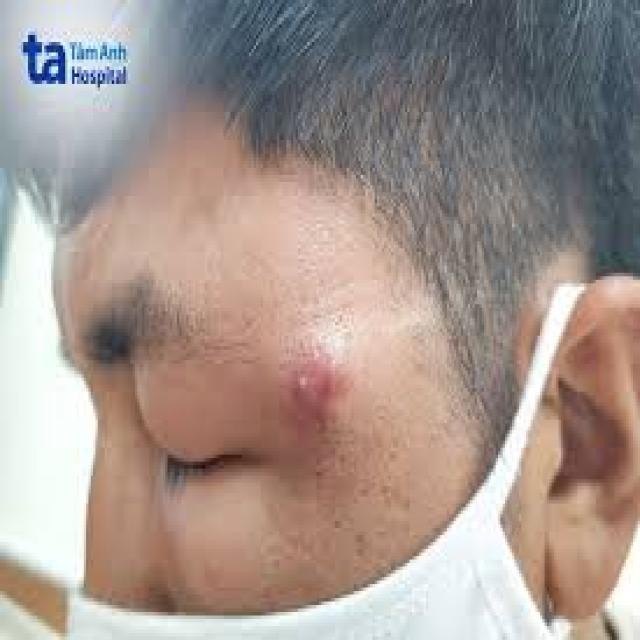nodule: (275, 322, 353, 430)
